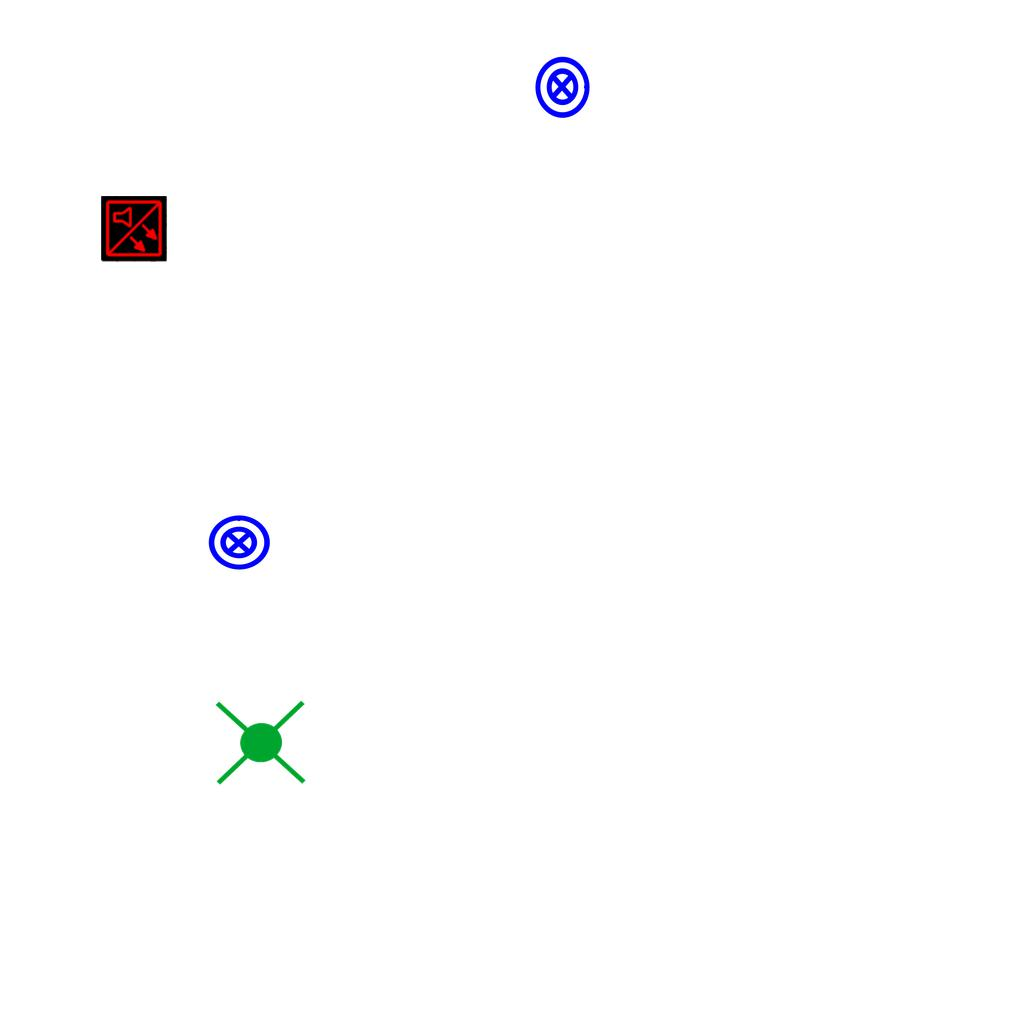Notlichtbaustein_in_Allgemeinbeleuchtug_engebaut_Einbau_(1UG_und_2UG_Aufbauvaria: (211, 690, 311, 793)
OKW_Multisensormelder_(Kombination_optischer_Rauch-Kahlenmonoxid_Waerme-Melder): (101, 196, 167, 262)
Taster_beleuchtet: (529, 54, 595, 120), (206, 510, 272, 576)
